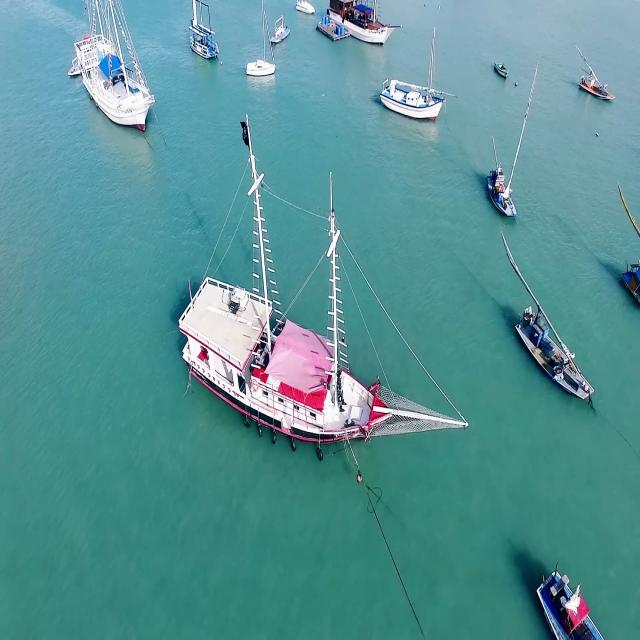ship: (178, 162, 477, 454), (70, 22, 158, 137), (514, 301, 599, 405), (529, 567, 604, 631), (328, 0, 401, 52), (482, 153, 524, 217), (379, 77, 446, 117), (572, 66, 619, 103), (187, 16, 221, 64), (268, 14, 290, 48), (246, 56, 277, 78), (494, 57, 509, 79), (295, 1, 318, 14)
